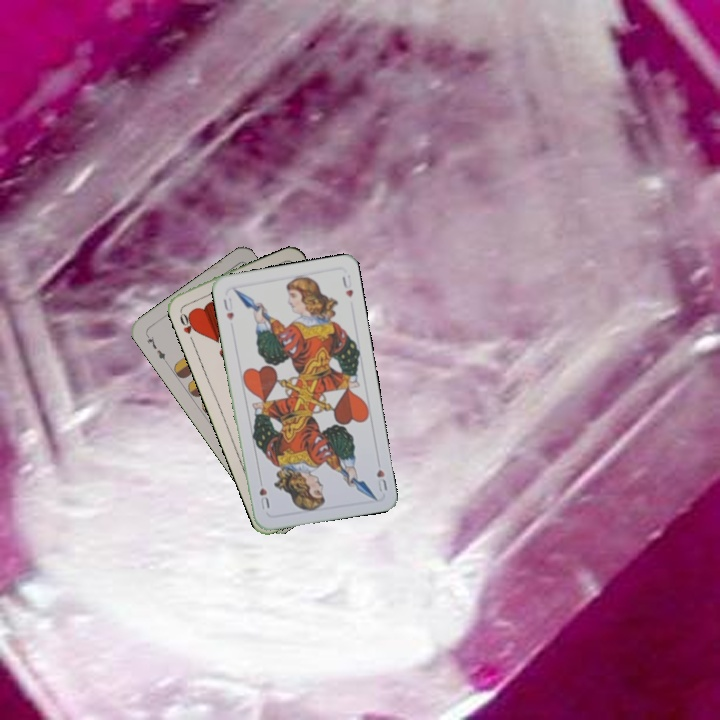E7: (142, 331, 170, 366)
HO: (175, 306, 201, 345)
HU: (219, 293, 236, 323), (372, 466, 390, 494)
